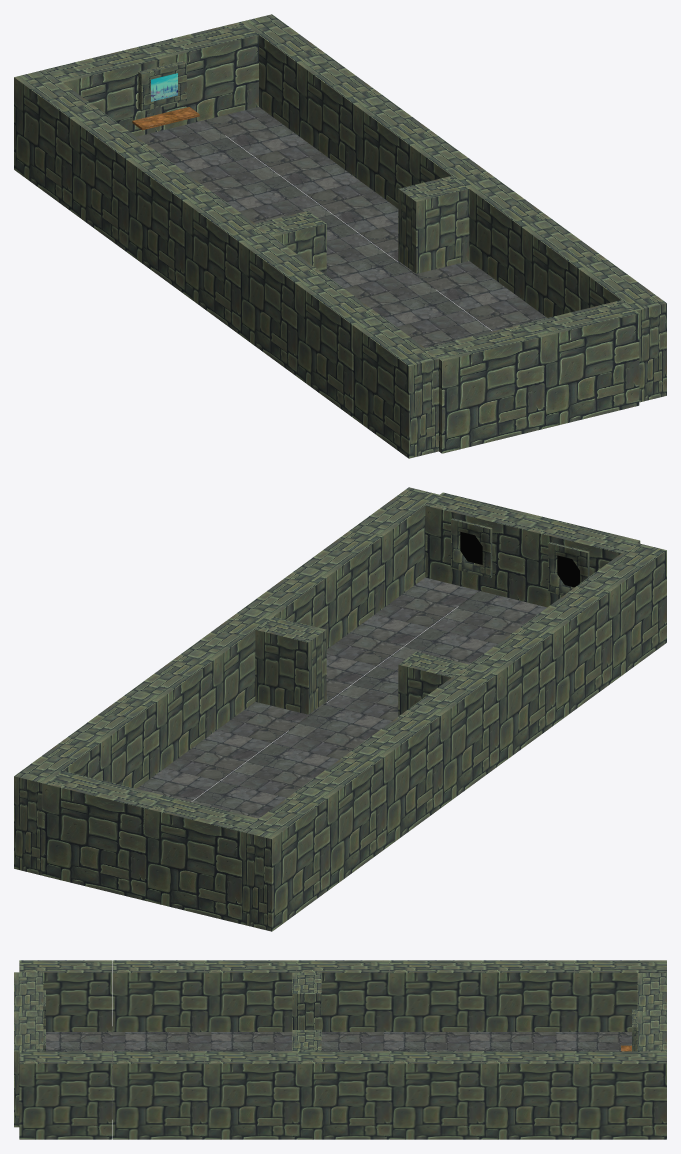
The model's file is Level_Wall.fbx.
3 renders of one model, top to bottom at view 1: azimuth 30°, elevation 25°; view 2: azimuth 150°, elevation 25°; view 3: azimuth 270°, elevation 25°, orthographic. The views are drawn at different scales.
Visible parts, largest first — view 1: Cube_2_3, Cube_3_2, Cube_13, Cube_3, Cube_14, Cube_16, Cube_18, Cube_17, Cube_19, Cube_15, Cube_2, Cube_11 (+22 smaller); view 2: Cube_3, Cube_1, Cube_19, Cube_14, Cube_17, Cube_13, Cube_18, Cube_15, Cube_16, Cube_3_2, Cube_2, Cube_10 (+22 smaller); view 3: Cube_11, Cube_1_2, Cube_12, Cube_10, Cube_5_2, Cube_4_2, Cube_3_3, Cube_18, Cube_17, Cube_14, Cube_15, Cube_16 (+15 smaller).
Boxes of the visible parts, left/top/right/bottom form: Cube_2_3: left=424, top=324, right=541, bottom=453; Cube_3_2: left=524, top=300, right=639, bottom=429; Cube_13: left=352, top=317, right=438, bottom=458; Cube_3: left=141, top=22, right=258, bottom=134; Cube_14: left=295, top=276, right=382, bottom=416; Cube_16: left=183, top=193, right=270, bottom=334; Cube_18: left=70, top=111, right=157, bottom=251; Cube_17: left=127, top=152, right=213, bottom=293; Cube_19: left=14, top=69, right=100, bottom=210; Cube_15: left=239, top=235, right=326, bottom=375; Cube_2: left=398, top=176, right=469, bottom=289; Cube_11: left=297, top=55, right=384, bottom=175; Cube_3: left=42, top=771, right=162, bottom=900; Cube_1: left=143, top=795, right=258, bottom=923; Cube_19: left=241, top=790, right=328, bottom=931; Cube_14: left=523, top=584, right=610, bottom=725; Cube_17: left=354, top=708, right=441, bottom=848; Cube_13: left=580, top=543, right=666, bottom=683; Cube_18: left=298, top=749, right=384, bottom=889; Cube_15: left=467, top=625, right=553, bottom=766; Cube_16: left=411, top=666, right=497, bottom=807; Cube_3_2: left=425, top=492, right=540, bottom=605; Cube_2: left=255, top=616, right=326, bottom=730; Cube_10: left=127, top=652, right=214, bottom=772; Cube_11: left=481, top=1051, right=574, bottom=1139; Cube_1_2: left=296, top=1051, right=389, bottom=1139; Cube_12: left=574, top=1051, right=666, bottom=1139; Cube_10: left=389, top=1051, right=481, bottom=1139; Cube_5_2: left=112, top=1051, right=204, bottom=1139; Cube_4_2: left=19, top=1051, right=111, bottom=1139; Cube_3_3: left=204, top=1051, right=297, bottom=1139; Cube_18: left=481, top=960, right=574, bottom=1031; Cube_17: left=389, top=960, right=481, bottom=1031; Cube_14: left=112, top=960, right=204, bottom=1031; Cube_15: left=204, top=960, right=296, bottom=1031; Cube_16: left=296, top=960, right=389, bottom=1031.
Size of the model in its own units: 584 by 200 by 1561.
Materials: 5 (4 with a texture image).
